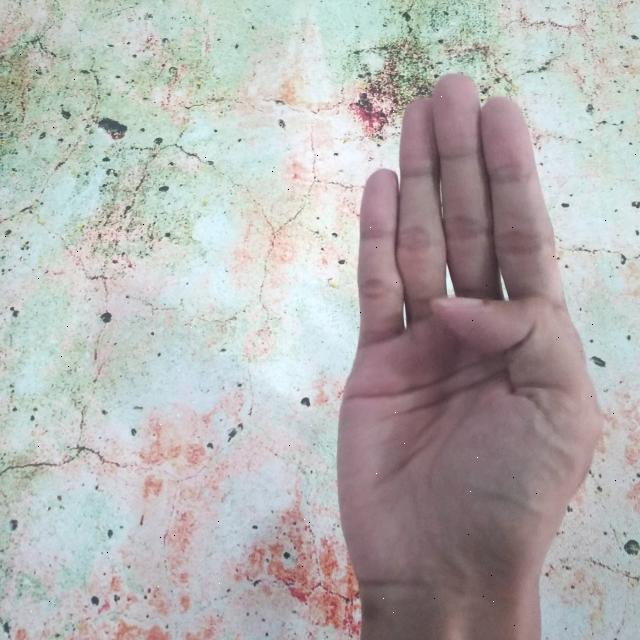B: (336, 73, 606, 640)
